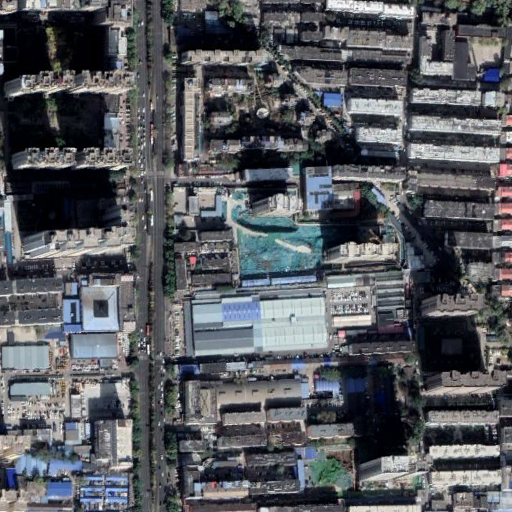cw: (235, 214, 328, 278), (304, 449, 354, 491)
